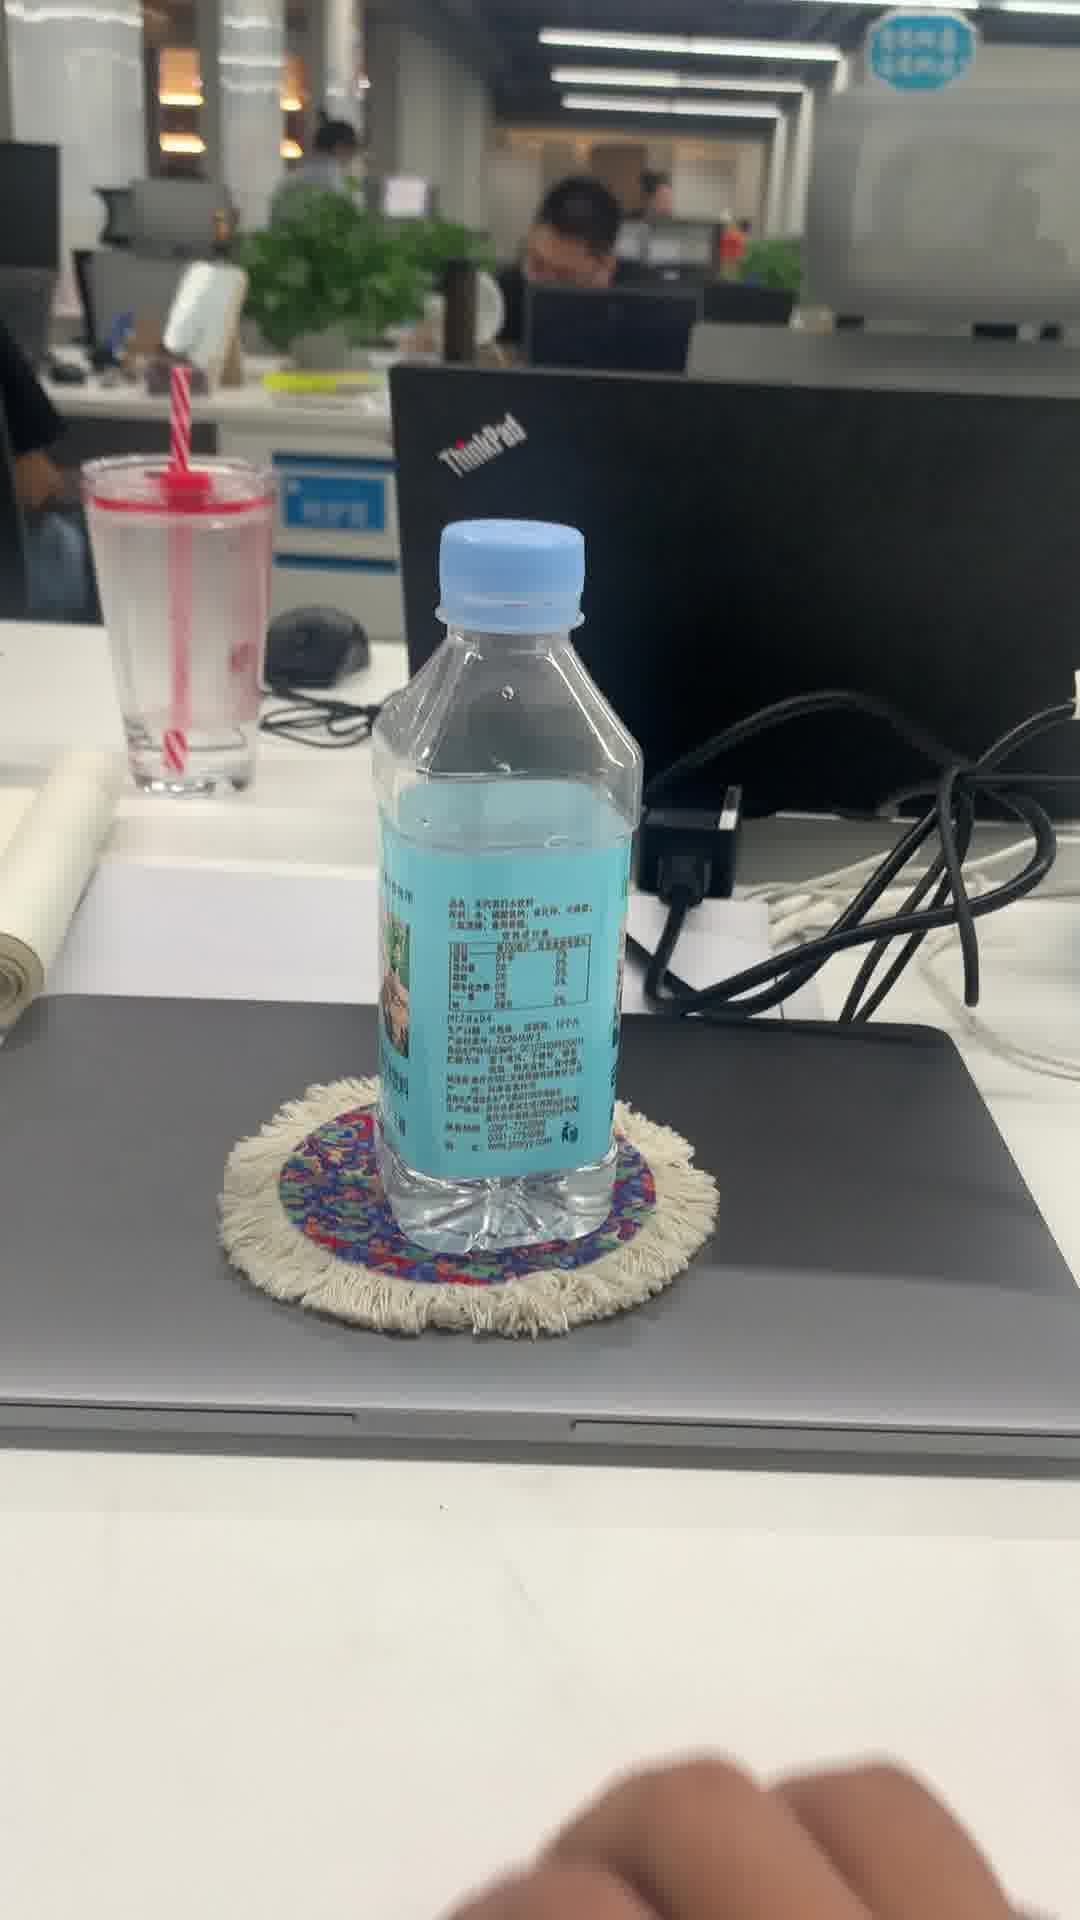水瓶: (368, 509, 657, 1261)
